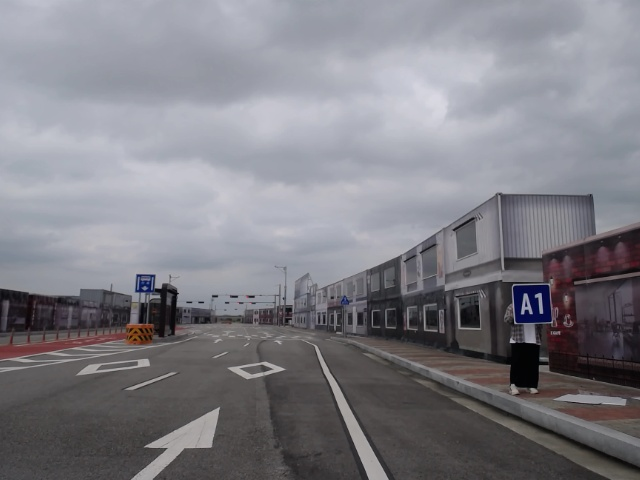delivery_a1: (512, 284, 553, 324)
